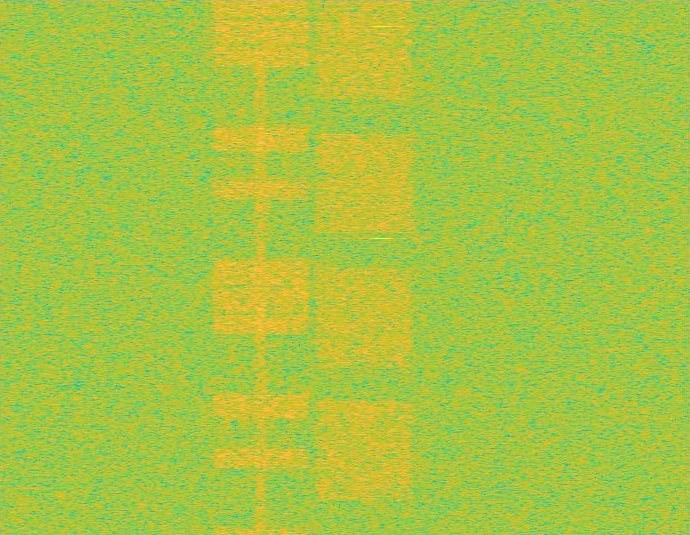5G: (313, 0, 416, 534)
DSSS: (254, 0, 268, 534)
LTE: (209, 0, 313, 534)
Radar: (374, 0, 388, 534)
